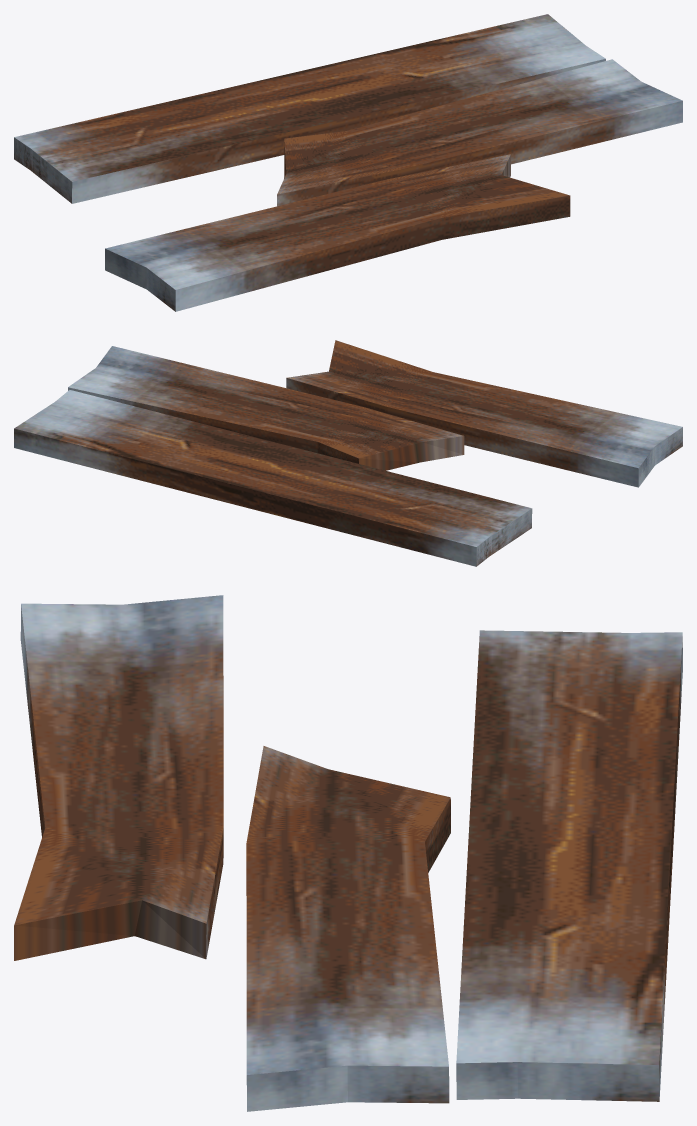
Rendered from Ice_wood03.FBX.
3 renders of one model, top to bottom at view 1: azimuth 30°, elevation 25°; view 2: azimuth 150°, elevation 25°; view 3: azimuth 270°, elevation 25°, orthographic. The views are drawn at different scales.
Visible parts, largest first — view 1: 10205_wood03; view 2: 10205_wood03; view 3: 10205_wood03.
Part boxes in pixels (x1,y1,x2,y2): 10205_wood03: (14, 14, 682, 311); 10205_wood03: (14, 340, 682, 566); 10205_wood03: (14, 595, 682, 1111).
Size of the model in its own units: 406 by 14.71 by 239.
